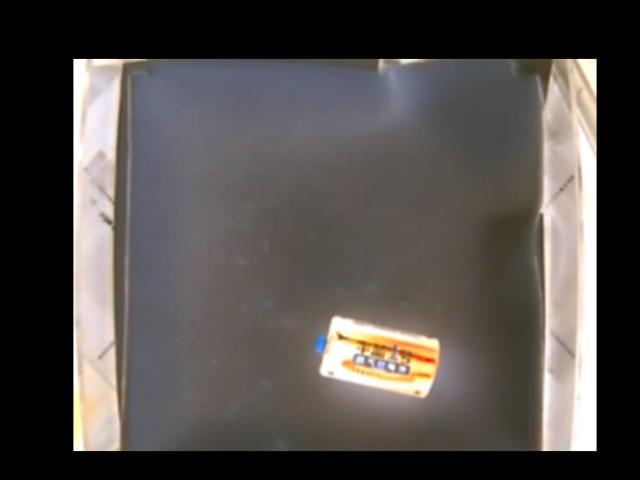Battery: (311, 315, 441, 398)
